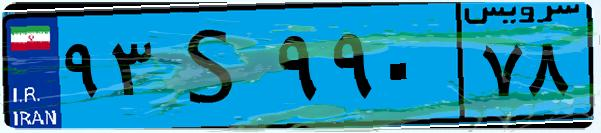0: (385, 28, 445, 110)
3: (110, 28, 158, 98)
7: (475, 38, 525, 113)
8: (525, 38, 570, 115)
9: (270, 28, 330, 110), (330, 28, 385, 110), (57, 26, 110, 100)
S: (158, 12, 270, 120)
